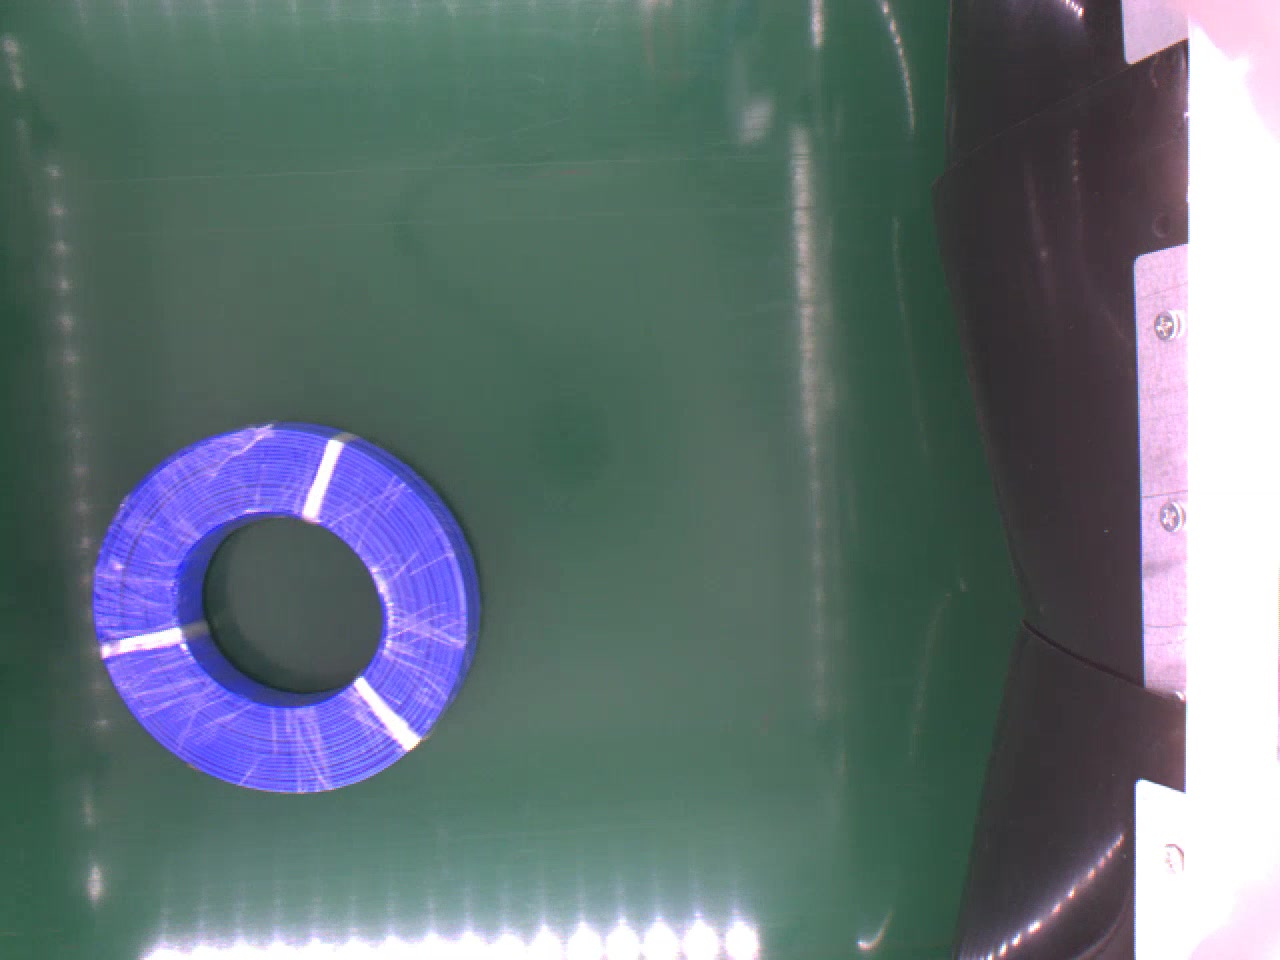blue: (92, 422, 478, 793)
